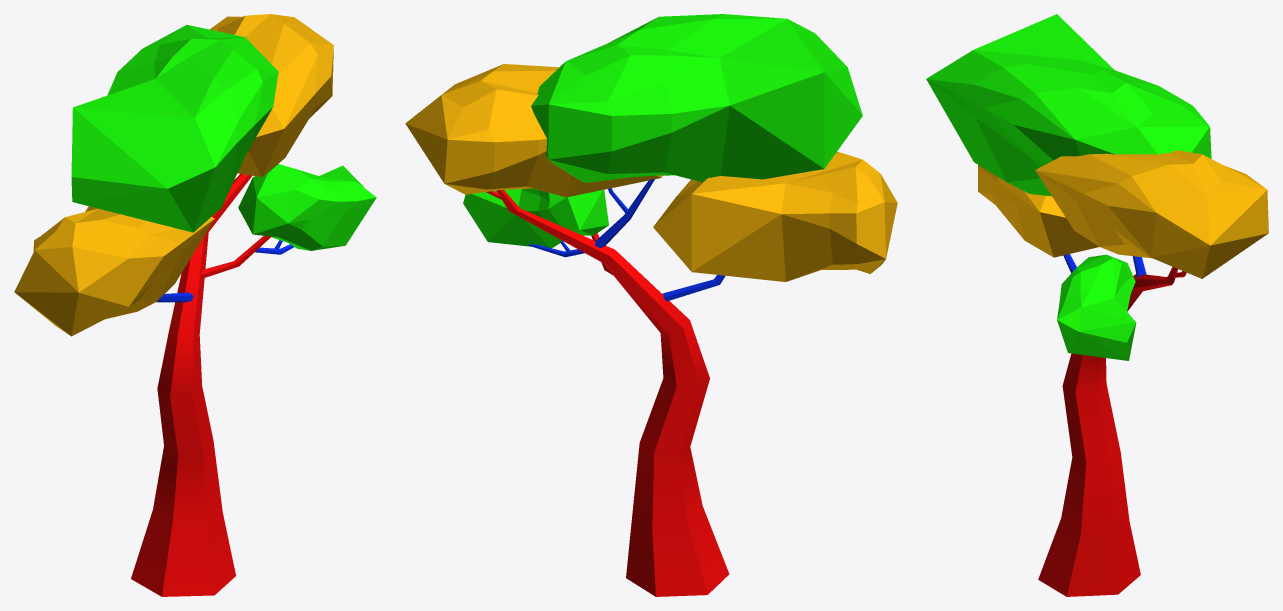
The model's file is Tree_1.fbx.
3 views of the same model, side by side, from view 1: azimuth 30°, elevation 25°; view 2: azimuth 150°, elevation 25°; view 3: azimuth 270°, elevation 25° (orthographic). The views are drawn at different scales.
Parts seen in each view (by area): view 1: Tree_1; view 2: Tree_1; view 3: Tree_1.
Part boxes in pixels (<box>): Tree_1: <box>14,14,376,596</box>; Tree_1: <box>405,14,897,596</box>; Tree_1: <box>926,14,1268,596</box>.
Bounding box in the file's own units: 691 × 881 × 534.
